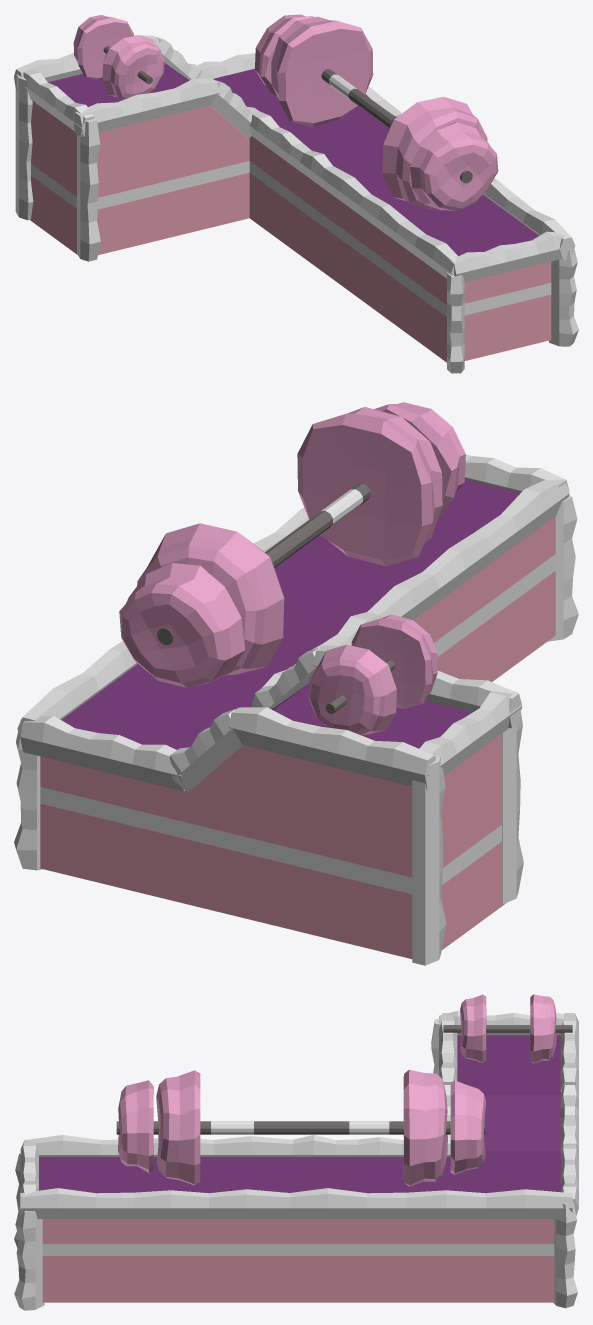
File: Tower_Support_Damage.fbx
3 views of the same model, one above another, from view 1: azimuth 30°, elevation 25°; view 2: azimuth 150°, elevation 25°; view 3: azimuth 270°, elevation 25° (orthographic). The views are drawn at different scales.
Visible parts, largest first — view 1: Cube.028, Cube.103, MellowSmol1.001, MellowSmol1.004, Cylinder.004, MellowSmol1.003, MellowSmol1.002, Cylinder.002; view 2: Cube.028, Cube.103, MellowSmol1.003, MellowSmol1.002, Cylinder.004, MellowSmol1.001, MellowSmol1.004, Cylinder.002; view 3: Cube.028, Cube.103, MellowSmol1.001, MellowSmol1.003, Cylinder.004, Cylinder.002, MellowSmol1.002, MellowSmol1.004.
Boxes of the visible parts, x1=… form: Cube.028: x1=30, y1=63, x2=551, y2=362; Cube.103: x1=14, y1=35, x2=578, y2=373; MellowSmol1.001: x1=271, y1=16, x2=373, y2=126; MellowSmol1.004: x1=409, y1=122, x2=498, y2=211; Cylinder.004: x1=73, y1=15, x2=164, y2=99; MellowSmol1.003: x1=382, y1=96, x2=487, y2=209; MellowSmol1.002: x1=255, y1=14, x2=314, y2=95; Cylinder.002: x1=321, y1=69, x2=472, y2=183; Cube.028: x1=40, y1=480, x2=555, y2=958; Cube.103: x1=14, y1=454, x2=578, y2=965; MellowSmol1.003: x1=297, y1=407, x2=442, y2=566; MellowSmol1.002: x1=119, y1=563, x2=245, y2=687; Cylinder.004: x1=308, y1=614, x2=437, y2=734; MellowSmol1.001: x1=137, y1=523, x2=284, y2=675; MellowSmol1.004: x1=374, y1=402, x2=465, y2=519; Cylinder.002: x1=157, y1=483, x2=370, y2=645; Cube.028: x1=39, y1=1035, x2=560, y2=1302; Cube.103: x1=14, y1=1010, x2=578, y2=1310; MellowSmol1.001: x1=403, y1=1069, x2=447, y2=1186; MellowSmol1.003: x1=156, y1=1070, x2=200, y2=1185; Cylinder.004: x1=443, y1=994, x2=572, y2=1063; Cylinder.002: x1=116, y1=1121, x2=485, y2=1134; MellowSmol1.002: x1=450, y1=1080, x2=485, y2=1174; MellowSmol1.004: x1=118, y1=1080, x2=153, y2=1172.
Bounding box in the file's own units: 173 × 110 × 277.
